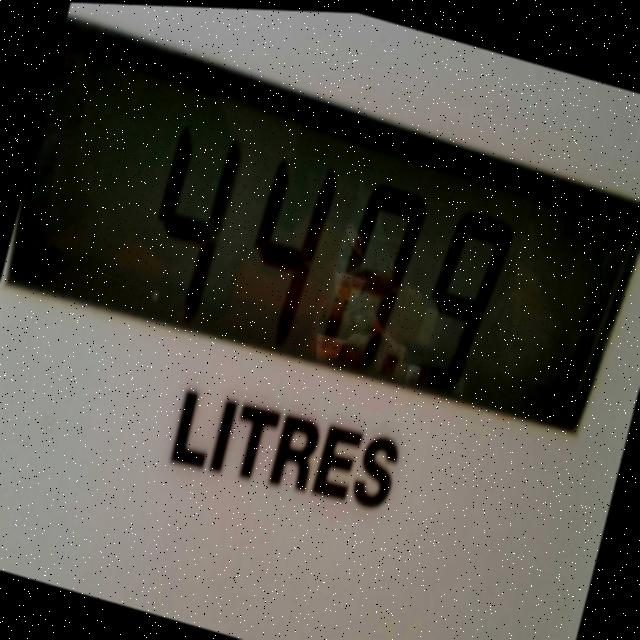.: (371, 337, 406, 386)
6: (115, 109, 262, 341), (219, 139, 347, 358), (308, 164, 434, 384)
9: (392, 192, 523, 422)
